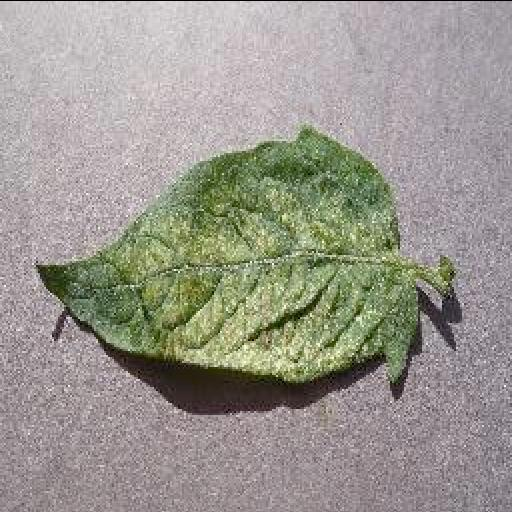disease_tomato: (28, 124, 416, 390)
